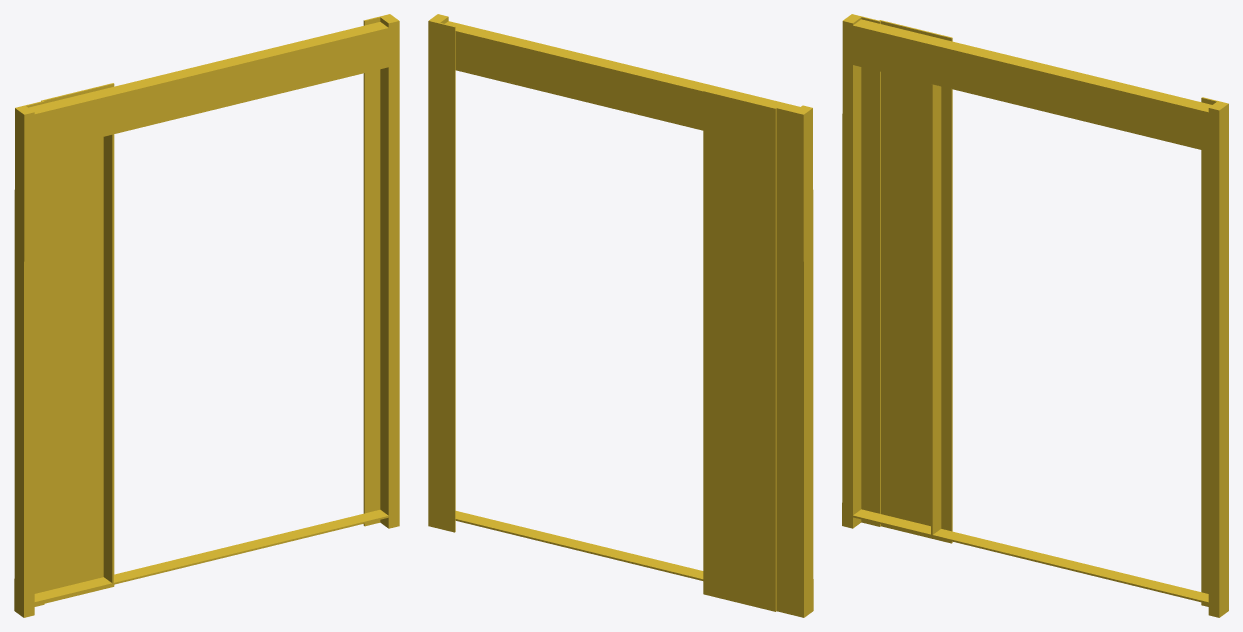
Rendered from supportDoor12.fbx.
3 renders of one model, left to right at view 1: azimuth 30°, elevation 25°; view 2: azimuth 150°, elevation 25°; view 3: azimuth 330°, elevation 25°, orthographic.
Visible parts, largest first — view 1: Door317; view 2: Door317; view 3: Door317.
Boxes of the visible parts, left/top/right/bottom form: Door317: left=14, top=14, right=399, bottom=617; Door317: left=428, top=14, right=813, bottom=617; Door317: left=842, top=14, right=1228, bottom=617.
Bounding box in the file's own units: 210 × 270 × 10.
